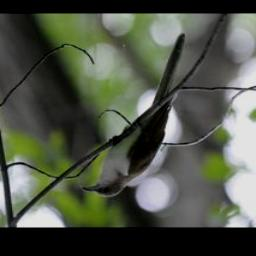Cuckoo: (82, 30, 190, 200)
